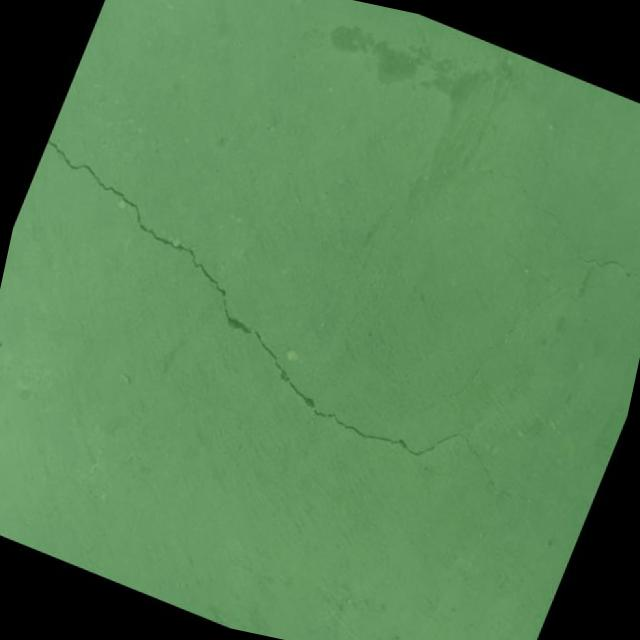crack: (0, 137, 607, 512), (410, 240, 582, 462), (468, 165, 602, 257), (554, 235, 640, 312)
